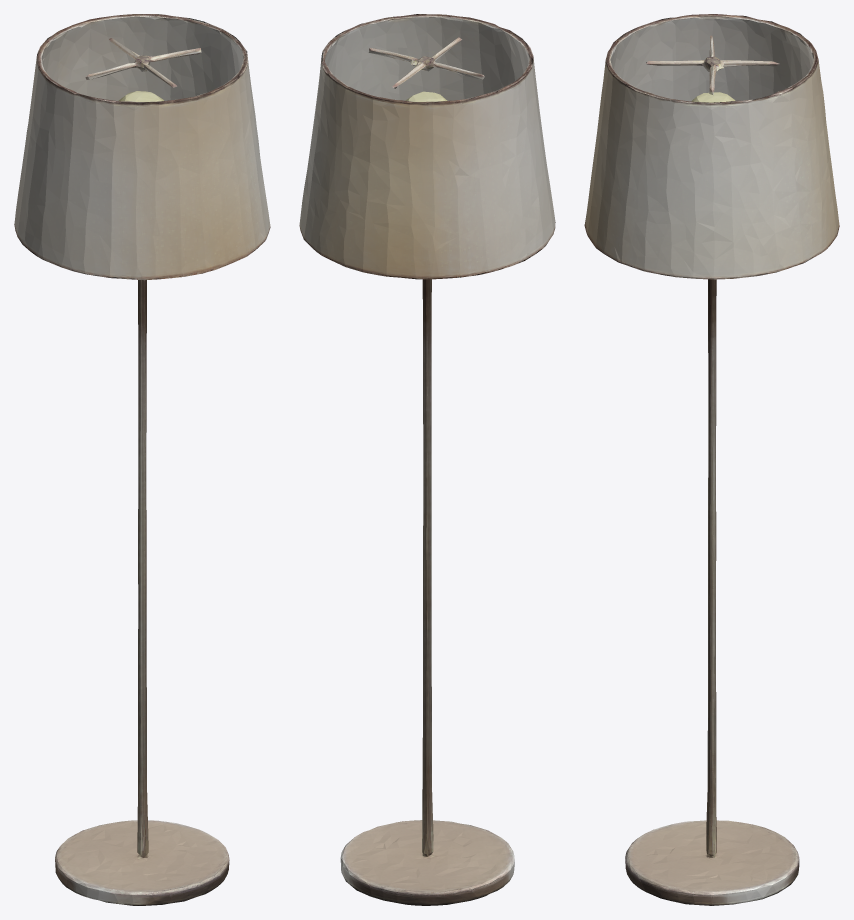
3 renders of one model, left to right at view 1: azimuth 30°, elevation 25°; view 2: azimuth 150°, elevation 25°; view 3: azimuth 270°, elevation 25°, orthographic.
Parts seen in each view (by area): view 1: world; view 2: world; view 3: world.
Part boxes in pixels (<box>): world: <box>14,14,270,905</box>; world: <box>299,14,555,905</box>; world: <box>584,14,839,905</box>.
Size of the model in its own units: 0.2844 by 1 by 0.2853.
1 material, 1 textured.
